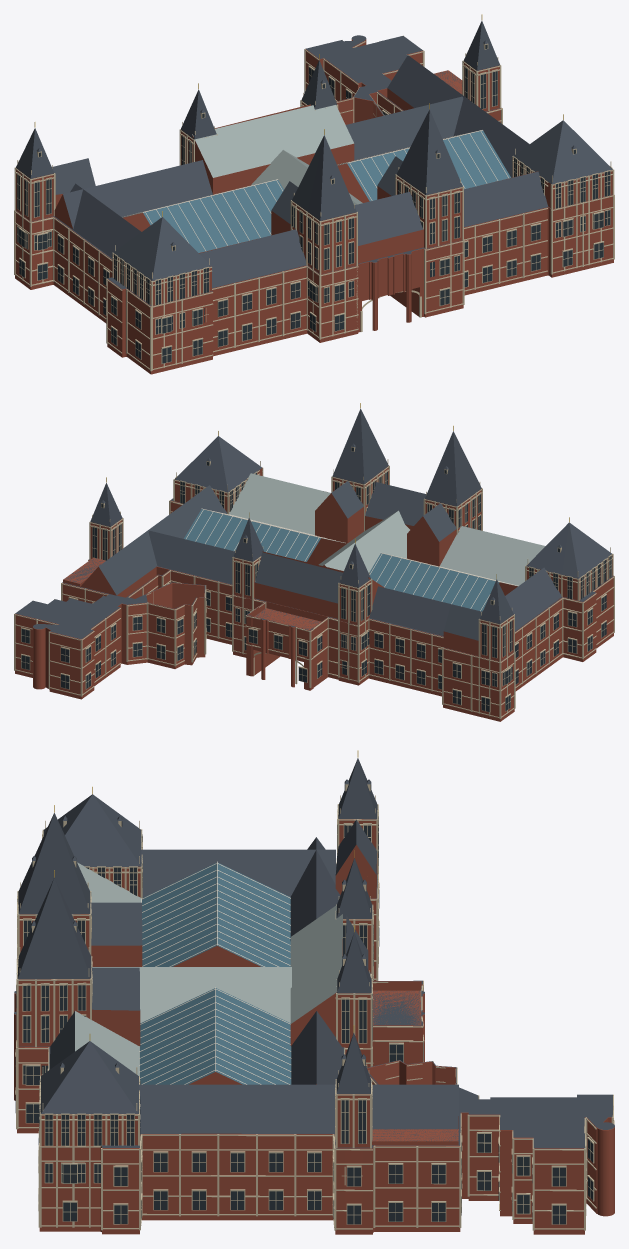
The model's file is rijksmuseum.glb.
3 renders of one model, top to bottom at view 1: azimuth 30°, elevation 25°; view 2: azimuth 150°, elevation 25°; view 3: azimuth 270°, elevation 25°, orthographic. The views are drawn at different scales.
Visible parts, largest first — view 1: rijksmuseum; view 2: rijksmuseum; view 3: rijksmuseum.
Boxes of the visible parts, left/top/right/bottom form: rijksmuseum: left=14, top=14, right=614, bottom=374; rijksmuseum: left=14, top=403, right=614, bottom=721; rijksmuseum: left=14, top=750, right=614, bottom=1234.
Bounding box in the file's own units: 139 × 55.6 × 120.
